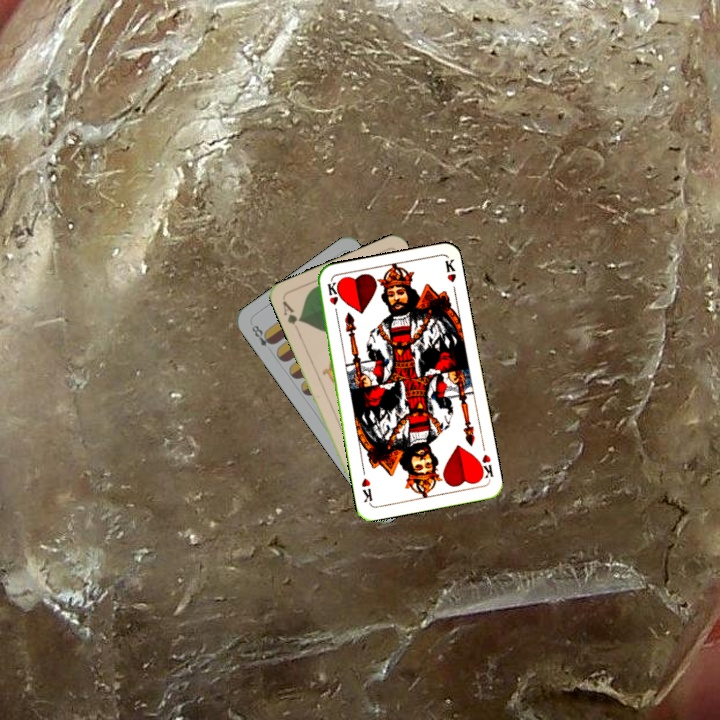E8: (247, 321, 277, 350)
GA: (278, 297, 304, 334)
HK: (323, 278, 341, 319), (473, 450, 496, 482)
